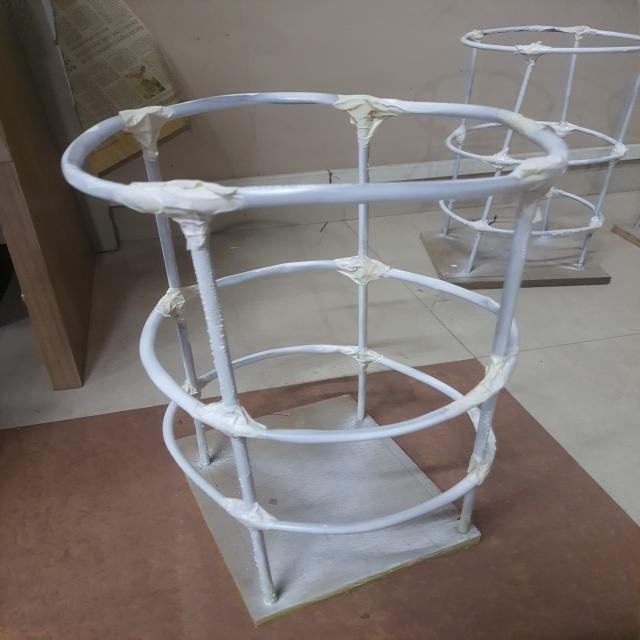silo: (30, 97, 567, 616), (436, 28, 623, 283)
